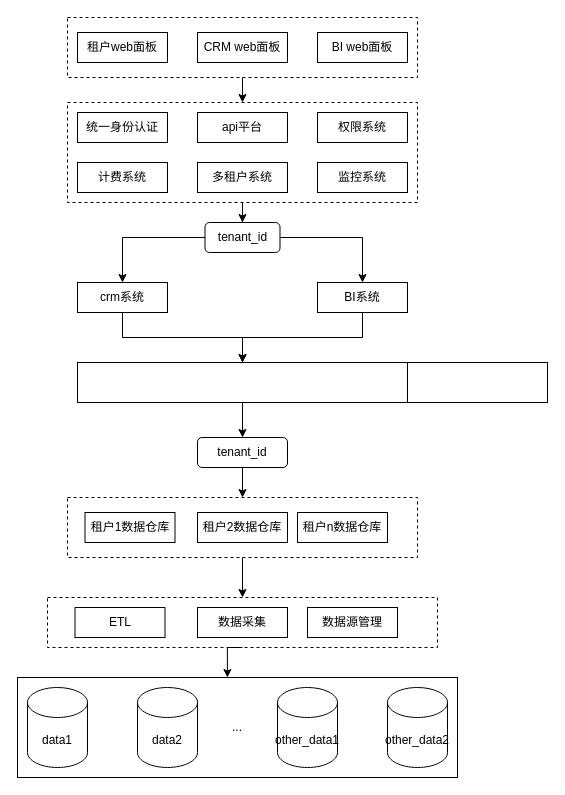
Image size: 565x795. Some labels were removed from this diagram. Here are the shapes that lost their labels. From the top down, the centre of each, then its label:
At (242,382): "元数据管理系统".
At (477,382): "流式处理".
